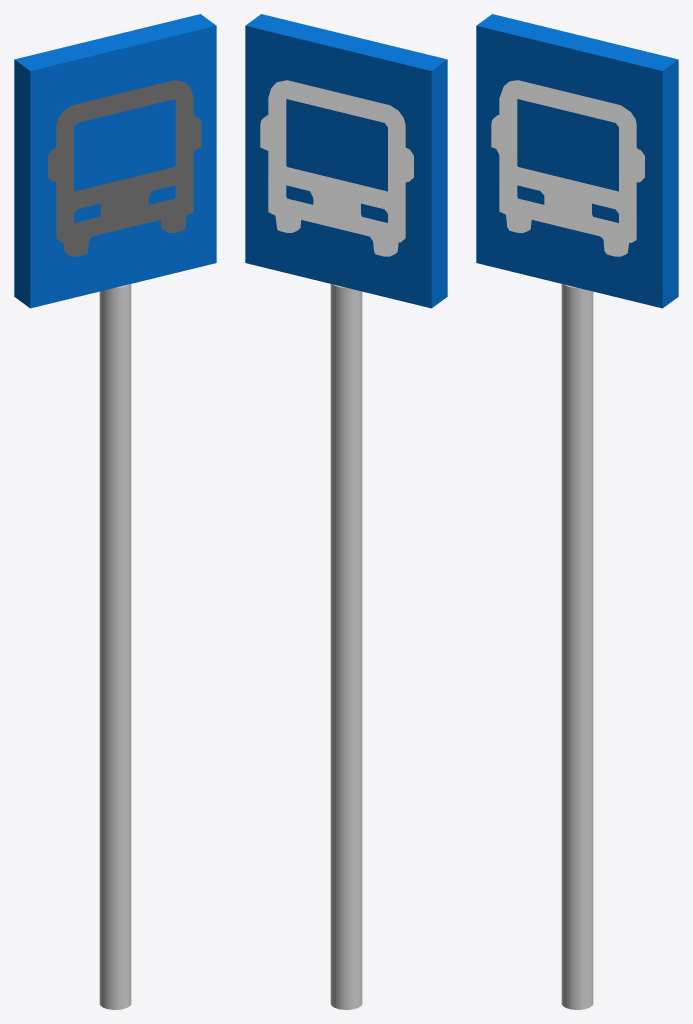
The model's file is busStopSign.fbx.
3 renders of one model, left to right at view 1: azimuth 30°, elevation 25°; view 2: azimuth 150°, elevation 25°; view 3: azimuth 330°, elevation 25°, orthographic.
Visible parts, largest first — view 1: Cube, Cylinder, layer 1; view 2: Cube, Cylinder, layer 1; view 3: Cube, Cylinder, layer 1.
Boxes of the visible parts, x1=… form: Cube: x1=14, y1=14, x2=216, y2=308; Cylinder: x1=99, y1=284, x2=131, y2=1009; layer 1: x1=48, y1=80, x2=201, y2=256; Cube: x1=245, y1=14, x2=447, y2=308; Cylinder: x1=330, y1=284, x2=362, y2=1009; layer 1: x1=260, y1=80, x2=413, y2=256; Cube: x1=476, y1=14, x2=678, y2=308; Cylinder: x1=561, y1=284, x2=593, y2=1009; layer 1: x1=491, y1=80, x2=644, y2=256.
Size of the model in its own units: 1349 by 6652 by 372.
